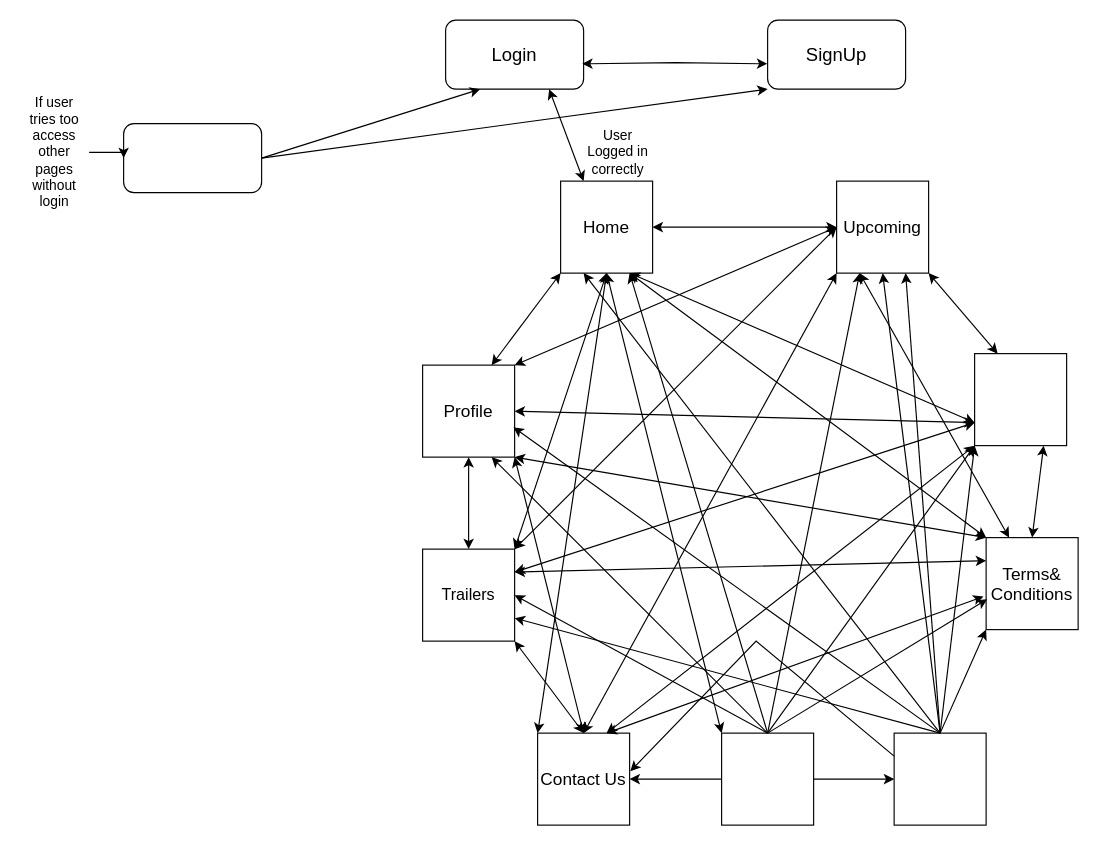
The diagram is 1098 pixels wide and 845 high, and some of its shapes have lost their labels. Here are the shapes that lost their labels. From the top down, the centre of each, then its label:
point 192,157: InValid Login
point 1020,399: About us
point 767,778: Show Timings
point 939,778: Booking
